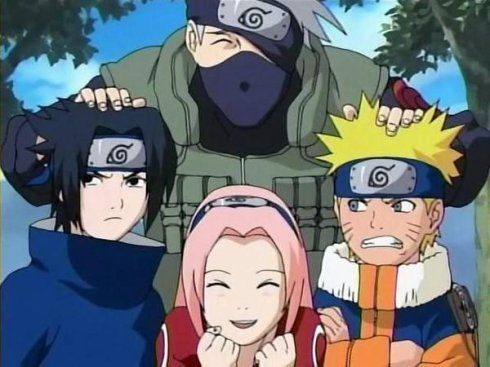kakashi: (186, 3, 307, 134)
naruto: (331, 156, 445, 262)
sakura: (182, 184, 294, 345)
sasuke: (45, 135, 158, 242)
